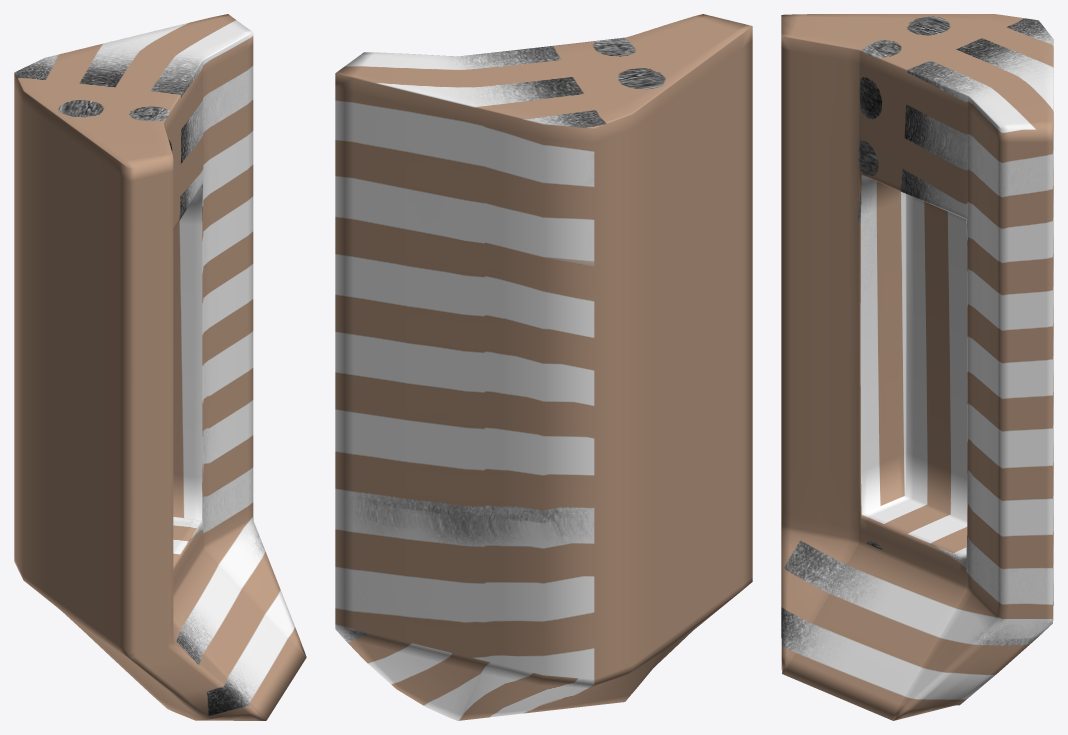
The model's file is Lab_el_join_light_int_angle.fbx.
3 renders of one model, left to right at view 1: azimuth 30°, elevation 25°; view 2: azimuth 150°, elevation 25°; view 3: azimuth 270°, elevation 25°, orthographic. The views are drawn at different scales.
Visible parts, largest first — view 1: Object007; view 2: Object007; view 3: Object007.
Part boxes in pixels (left/top/right/bottom): Object007: left=14, top=14, right=306, bottom=720; Object007: left=335, top=14, right=752, bottom=720; Object007: left=781, top=14, right=1053, bottom=720.
Size of the model in its own units: 125 by 300 by 125.
